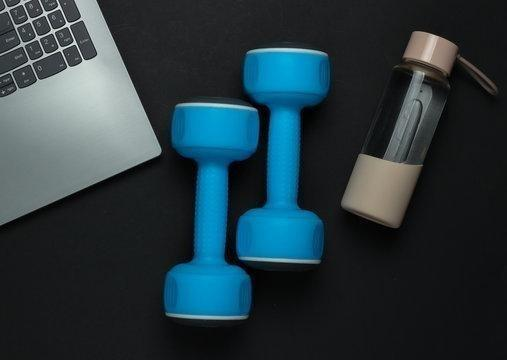gym bottle: (340, 30, 460, 230)
